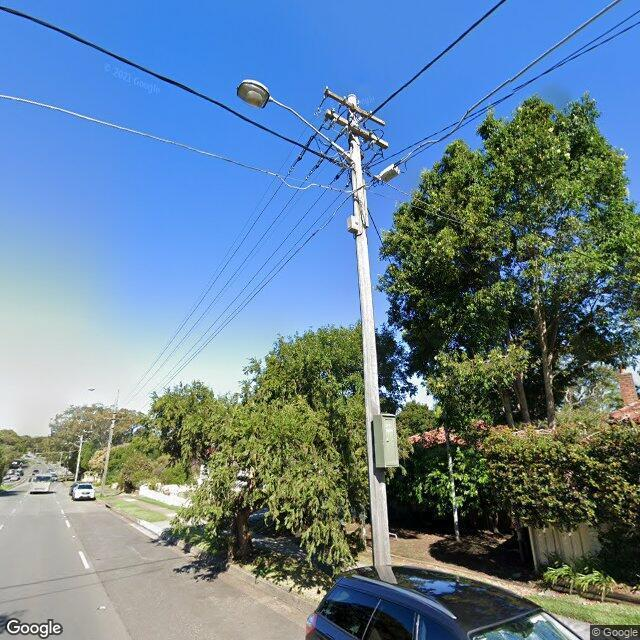crossarm: (325, 110, 390, 150), (324, 89, 387, 126)
streetlight: (237, 80, 355, 163)
timber-pole: (345, 94, 391, 567), (102, 386, 119, 486), (74, 435, 83, 482)
